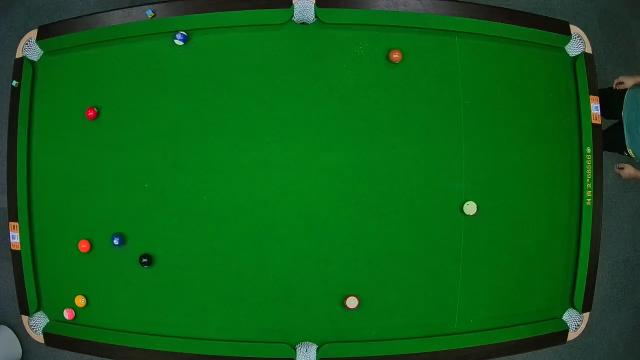bag1: (20, 37, 48, 63)
bag2: (292, 1, 318, 24)
bag3: (564, 29, 590, 59)
bag4: (20, 310, 52, 340)
bag5: (294, 340, 320, 360)
bag6: (560, 305, 592, 338)
ball1: (74, 294, 88, 310)
ball10: (172, 31, 190, 47)
ball11: (344, 295, 360, 311)
ball12: (64, 307, 76, 321)
ball2: (110, 230, 126, 248)
ball3: (85, 106, 98, 121)
ball5: (77, 238, 91, 255)
ball7: (388, 48, 404, 64)
ball8: (138, 253, 154, 269)
